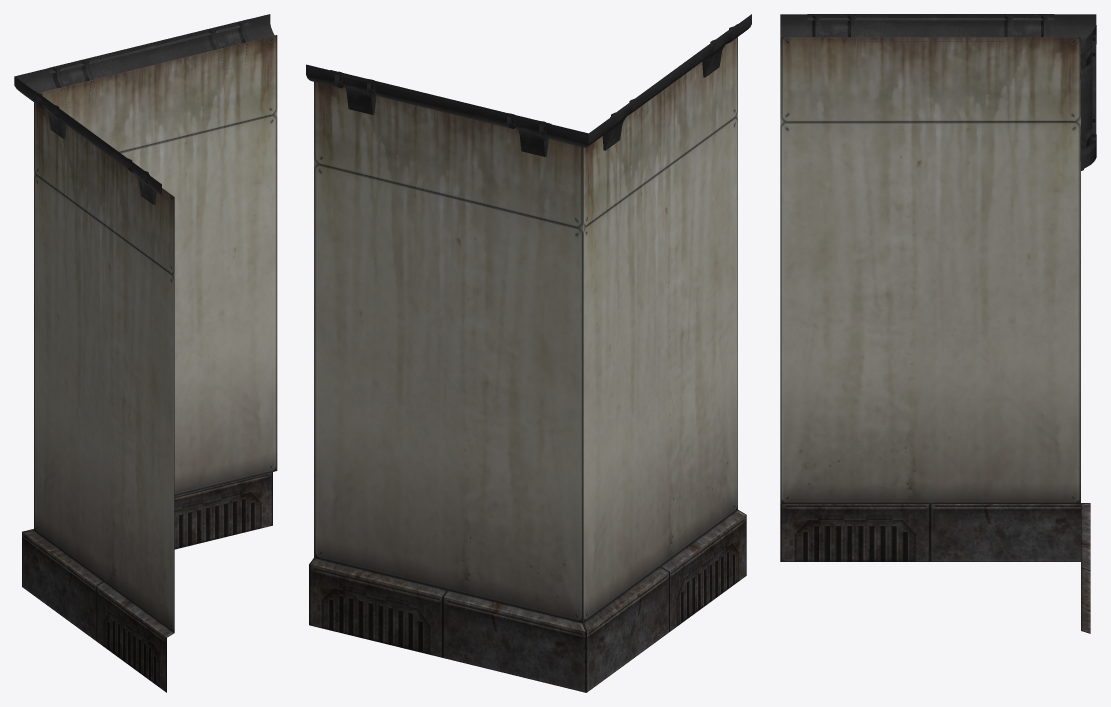
The model's file is lab_convex_short.dae.
3 renders of one model, left to right at view 1: azimuth 30°, elevation 25°; view 2: azimuth 150°, elevation 25°; view 3: azimuth 270°, elevation 25°, orthographic. The views are drawn at different scales.
Parts seen in each view (by area): view 1: lab_convex_short; view 2: lab_convex_short; view 3: lab_convex_short.
Boxes of the visible parts, x1=… form: lab_convex_short: x1=14, y1=14, x2=277, y2=692; lab_convex_short: x1=306, y1=14, x2=751, y2=692; lab_convex_short: x1=780, y1=14, x2=1096, y2=633.
Bounding box in the file's own units: 2.1 × 4 × 2.1.
